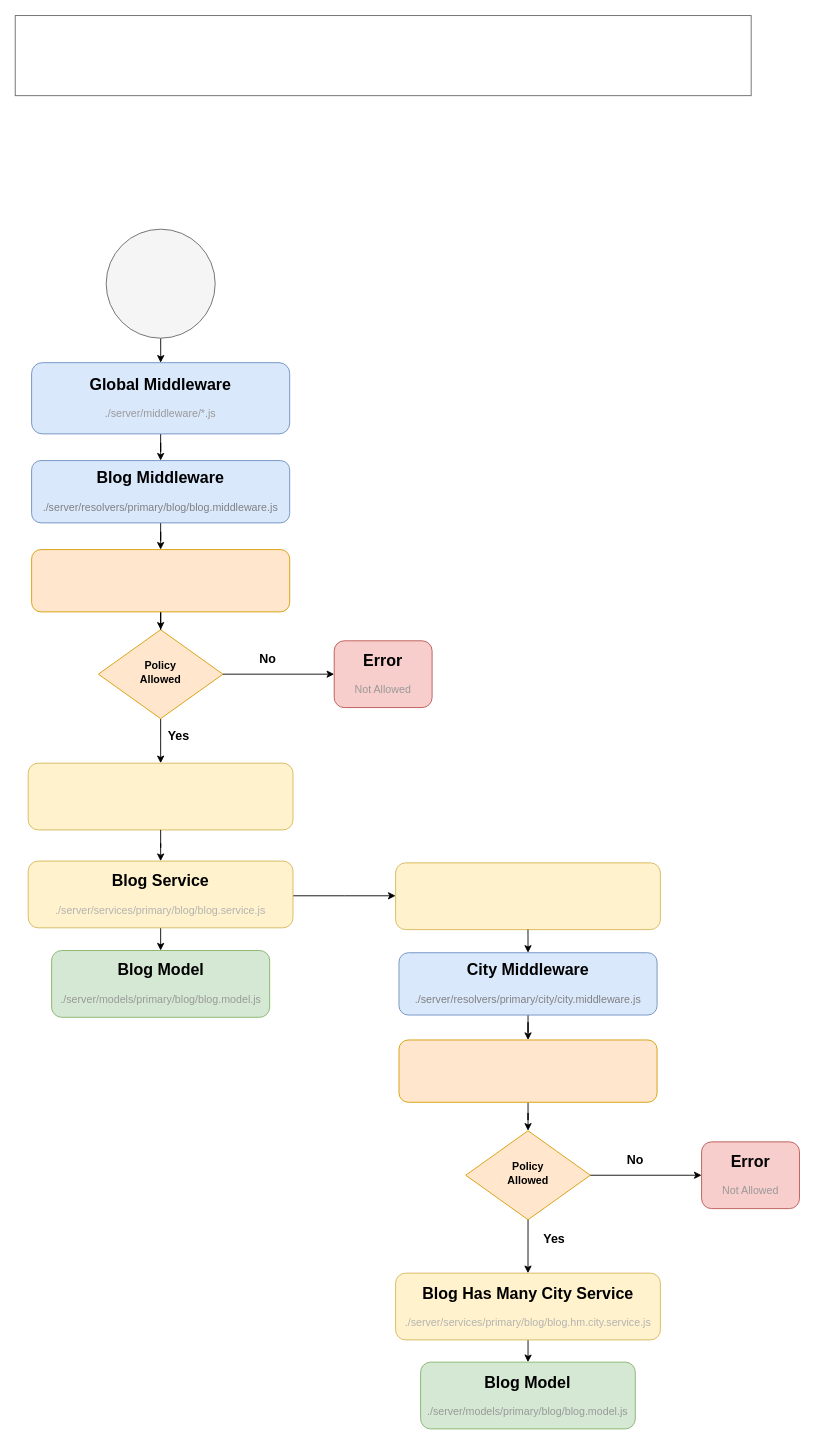
Some shapes in this 816 by 1444 pixel diagram are drawn without their labels. Each missing label, with the box of its shape:
/graphql Request: (105, 228, 215, 338)
Blog City Loader Handler ./server/graphql/primary/types/blog .type.js: (395, 862, 660, 930)
Blog Policy ./server/resolvers/primary/blog/blog.policy.js: (31, 549, 290, 612)
Blog Resolver Handler ./server/resolvers/primary/blog/blog.resolver.js: (27, 762, 293, 830)
City Policy ./server/resolvers/primary/city/city .policy.js: (398, 1039, 657, 1102)
Flow of GraphQL API through files: (14, 15, 751, 96)
